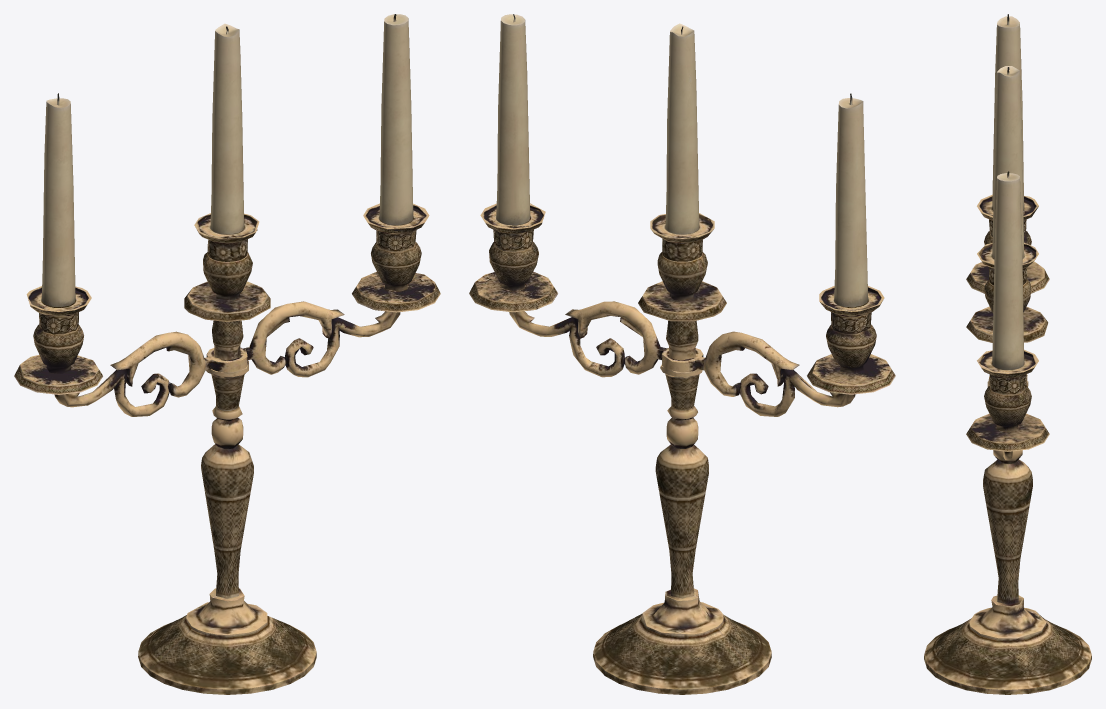
Rendered from brass_candleholders__b.glb.
3 views of the same model, side by side, from view 1: azimuth 30°, elevation 25°; view 2: azimuth 150°, elevation 25°; view 3: azimuth 270°, elevation 25° (orthographic). The views are drawn at different scales.
Parts seen in each view (by area): view 1: brass_candleholders_02, brass_candleholders_candles; view 2: brass_candleholders_02, brass_candleholders_candles; view 3: brass_candleholders_02, brass_candleholders_candles.
Part boxes in pixels (<box>): brass_candleholders_02: <box>14,203,440,694</box>; brass_candleholders_candles: <box>41,14,413,306</box>; brass_candleholders_02: <box>469,203,895,694</box>; brass_candleholders_candles: <box>496,14,868,307</box>; brass_candleholders_02: <box>924,194,1091,694</box>; brass_candleholders_candles: <box>992,14,1024,369</box>.
Bounding box in the file's own units: 0.2611 × 0.3794 × 0.0974.
Materials: 2 (2 with a texture image).
